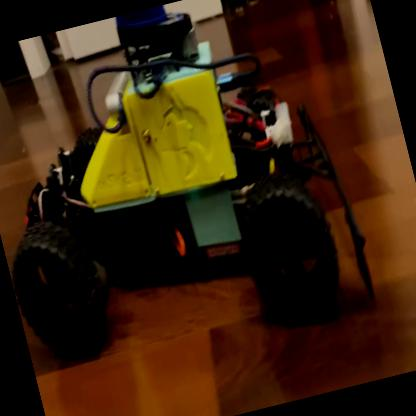mushr_car: (0, 0, 380, 384)
